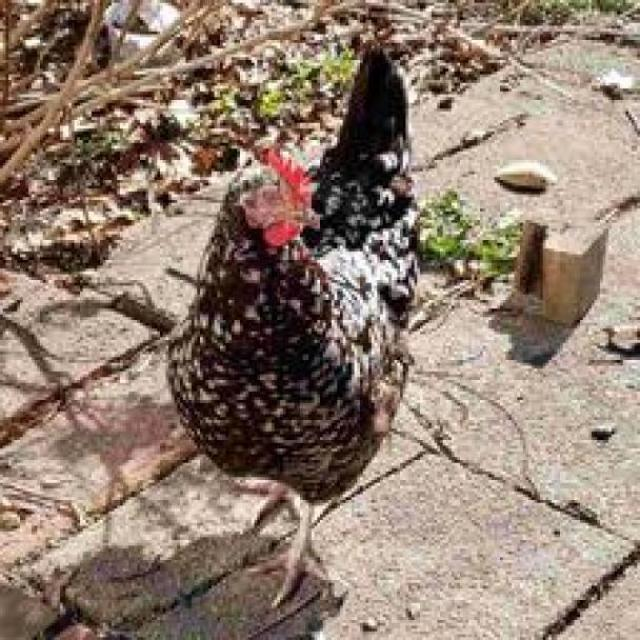Chicken: (134, 42, 552, 615)
